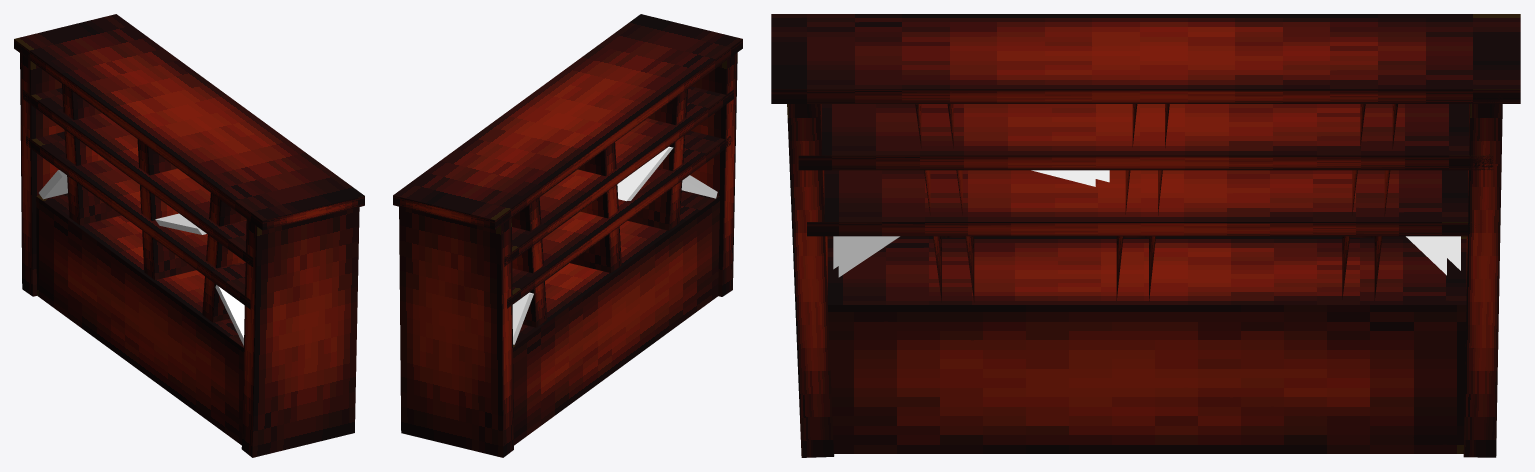
File: Regal_Postfächer_1893.glb
3 renders of one model, left to right at view 1: azimuth 30°, elevation 25°; view 2: azimuth 150°, elevation 25°; view 3: azimuth 270°, elevation 25°, orthographic. The views are drawn at different scales.
Visible parts, largest first — view 1: pPlaneShape1, pPlaneShape19, pPlaneShape17, pPlaneShape6, pPlaneShape11, pPlaneShape16, pPlaneShape26, pPlaneShape20, pPlaneShape2, pPlaneShape25, pPlaneShape7, pPlaneShape12 (+10 smaller); view 2: pPlaneShape1, pPlaneShape30, pPlaneShape17, pPlaneShape6, pPlaneShape16, pPlaneShape11, pPlaneShape24, pPlaneShape26, pPlaneShape20, pPlaneShape2, pPlaneShape7, pPlaneShape12 (+10 smaller); view 3: pPlaneShape18, pPlaneShape1, pPlaneShape16, pPlaneShape6, pPlaneShape11, pPlaneShape28, pPlaneShape4, pPlaneShape22, pPlaneShape9, pPlaneShape14, pCubeShape155, pCubeShape152 (+1 smaller).
Part boxes in pixels (box(x1,y1,x2,y2)): pPlaneShape1: box(14, 14, 364, 220); pPlaneShape19: box(252, 207, 359, 457); pPlaneShape17: box(36, 196, 243, 445); pPlaneShape6: box(31, 88, 246, 252); pPlaneShape11: box(32, 131, 245, 295); pPlaneShape16: box(36, 193, 243, 347); pPlaneShape26: box(20, 47, 32, 296); pPlaneShape20: box(241, 219, 257, 457); pPlaneShape2: box(14, 39, 262, 230); pPlaneShape25: box(30, 61, 64, 296); pPlaneShape7: box(23, 90, 253, 267); pPlaneShape12: box(26, 136, 250, 309); pPlaneShape1: box(393, 14, 742, 219); pPlaneShape30: box(399, 206, 503, 457); pPlaneShape17: box(513, 196, 719, 445); pPlaneShape6: box(512, 86, 725, 251); pPlaneShape16: box(513, 190, 719, 347); pPlaneShape11: box(512, 131, 724, 294); pPlaneShape24: box(690, 60, 726, 296); pPlaneShape26: box(501, 213, 513, 457); pPlaneShape20: box(722, 52, 737, 296); pPlaneShape2: box(495, 39, 742, 229); pPlaneShape7: box(504, 89, 733, 266); pPlaneShape12: box(507, 135, 730, 308); pPlaneShape18: box(828, 305, 1466, 453); pPlaneShape1: box(771, 14, 1520, 89); pPlaneShape16: box(827, 236, 1466, 304); pPlaneShape6: box(821, 104, 1469, 155); pPlaneShape11: box(824, 170, 1468, 221); pPlaneShape28: box(1463, 95, 1502, 457); pPlaneShape4: box(771, 89, 1520, 103); pPlaneShape22: box(787, 104, 833, 457); pPlaneShape9: box(798, 155, 1493, 170); pPlaneShape14: box(807, 222, 1471, 236); pCubeShape155: box(833, 236, 899, 277); pCubeShape152: box(1406, 236, 1460, 275).
Size of the model in its own units: 0.0931 by 0.2126 by 0.3916.
Materials: 45 (34 with a texture image).
